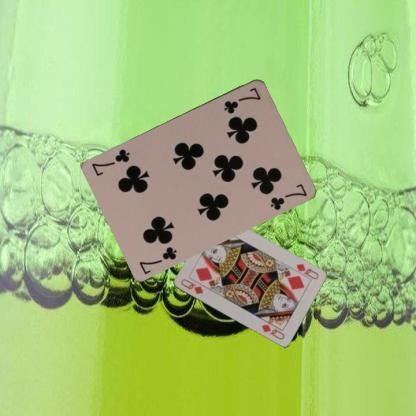7c: (136, 242, 178, 275), (220, 84, 262, 115)
Qd: (289, 262, 320, 282), (178, 276, 205, 297)
